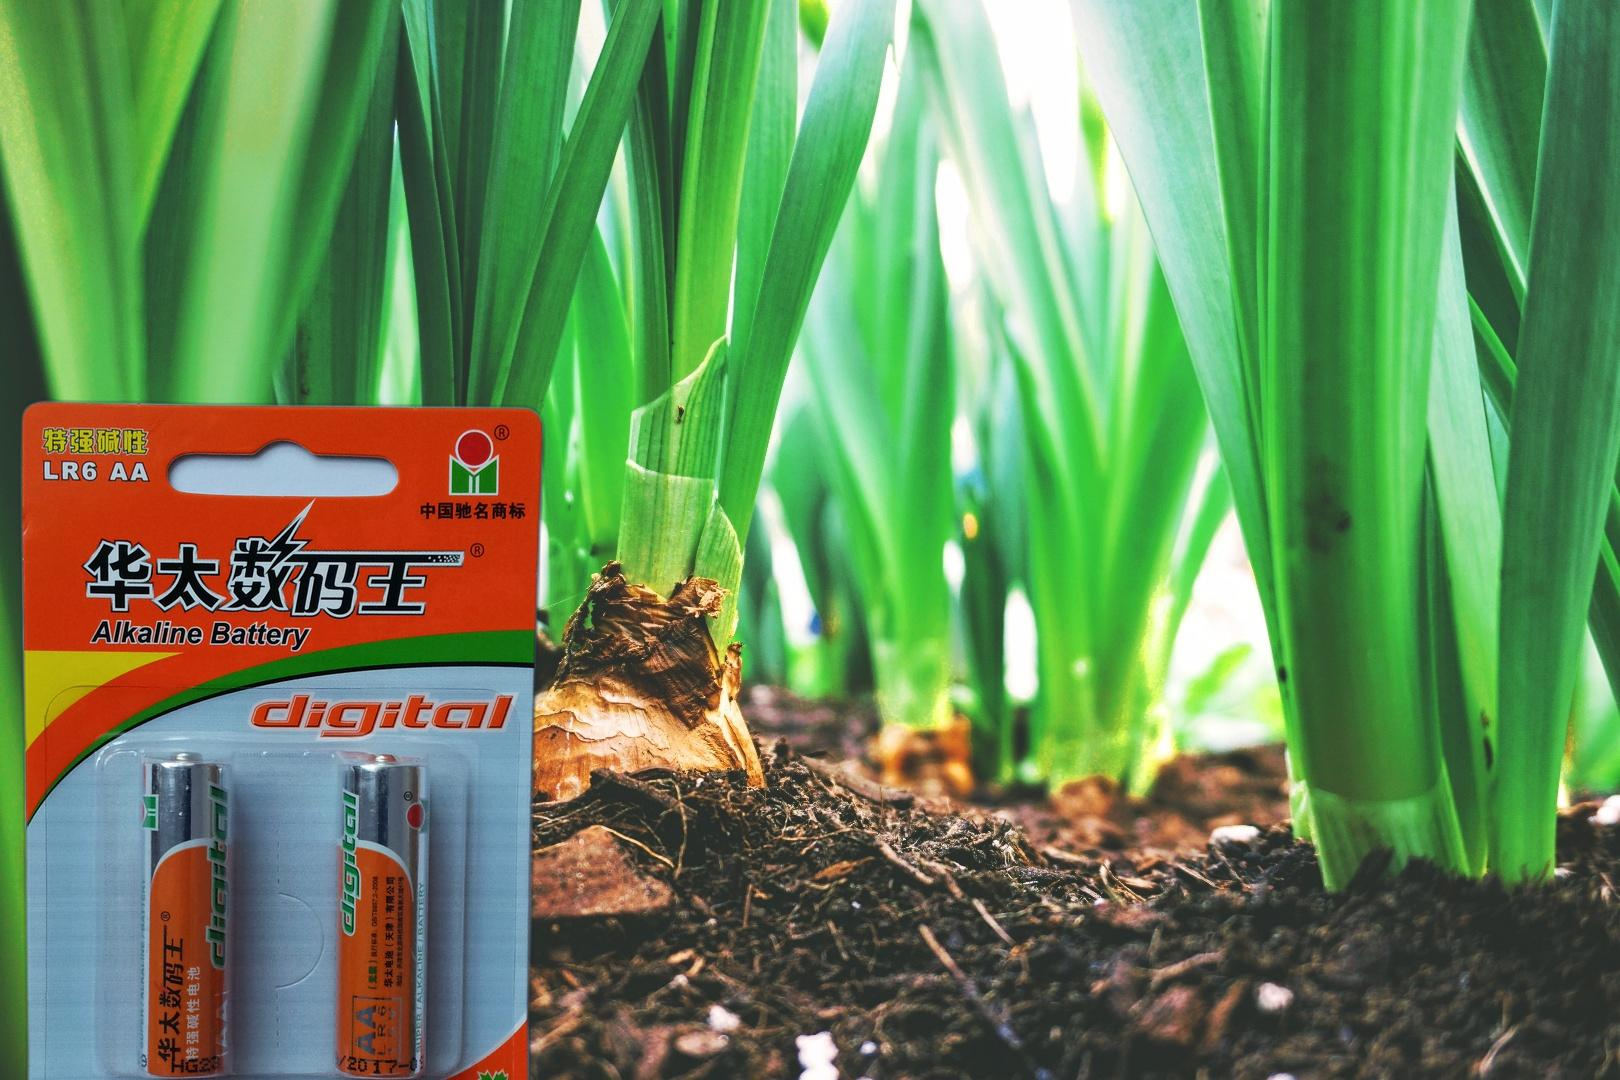battery: (14, 393, 550, 1080)
